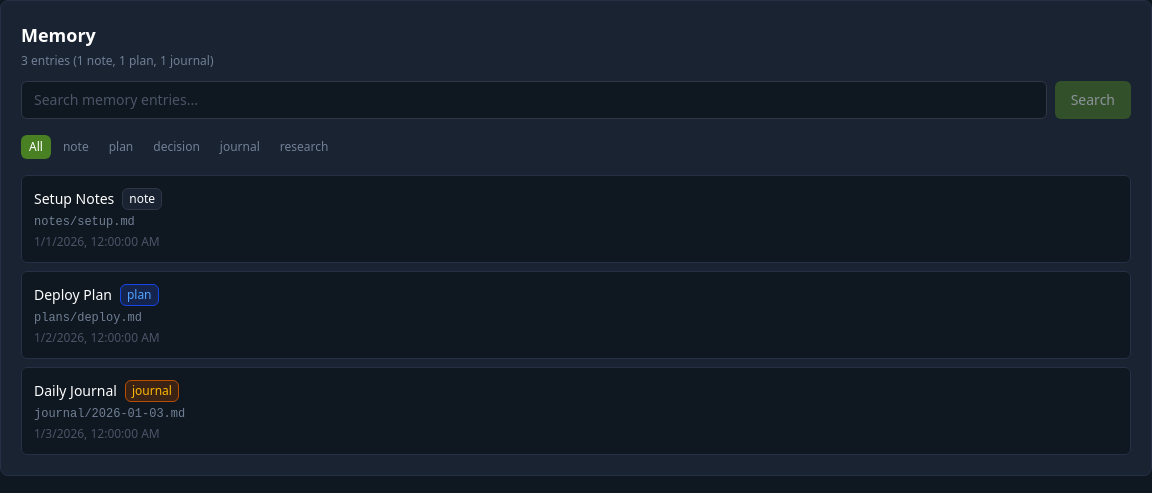
Test case: AgentMemory › T5: click entry loads content
Click the button with test id "entry-item" that starts with "Setup Notes" at (74, 198), box [21,175,1131,263]
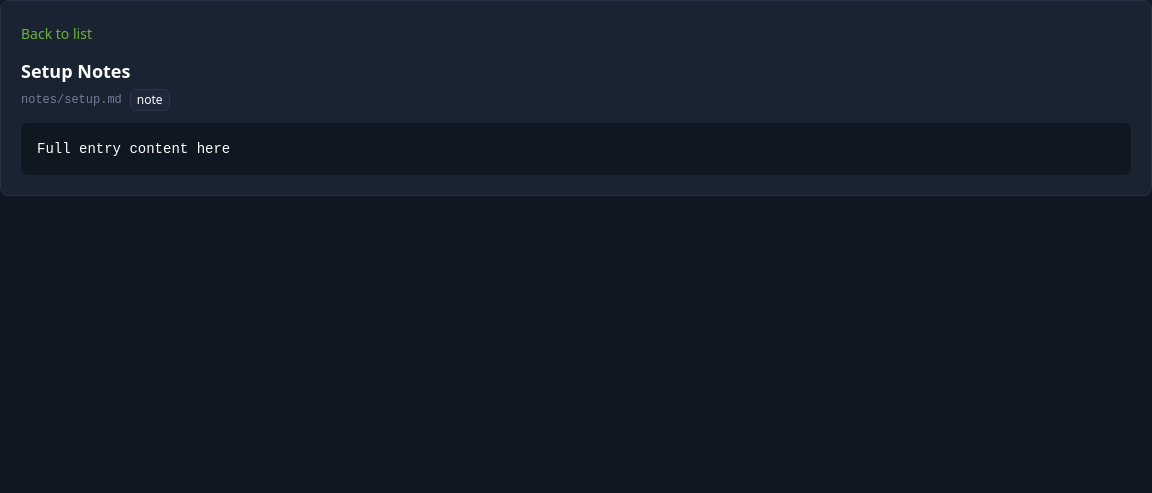
expect the text "Full entry content here" is shown: met, box [21,123,1131,175]
expect the button with test id "back-to-list" is shown: met, box [21,24,92,44]
